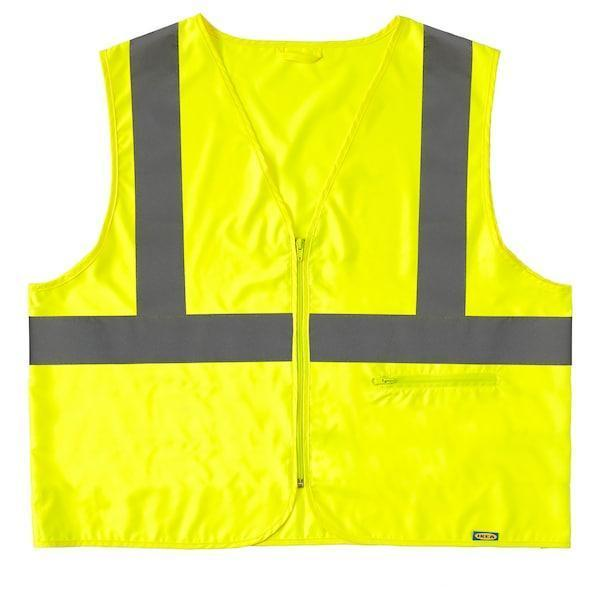vest: (24, 11, 573, 548)
